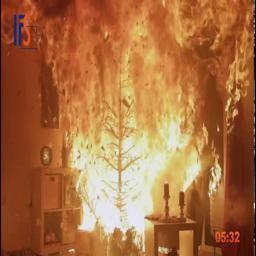fire: (5, 2, 249, 226)
